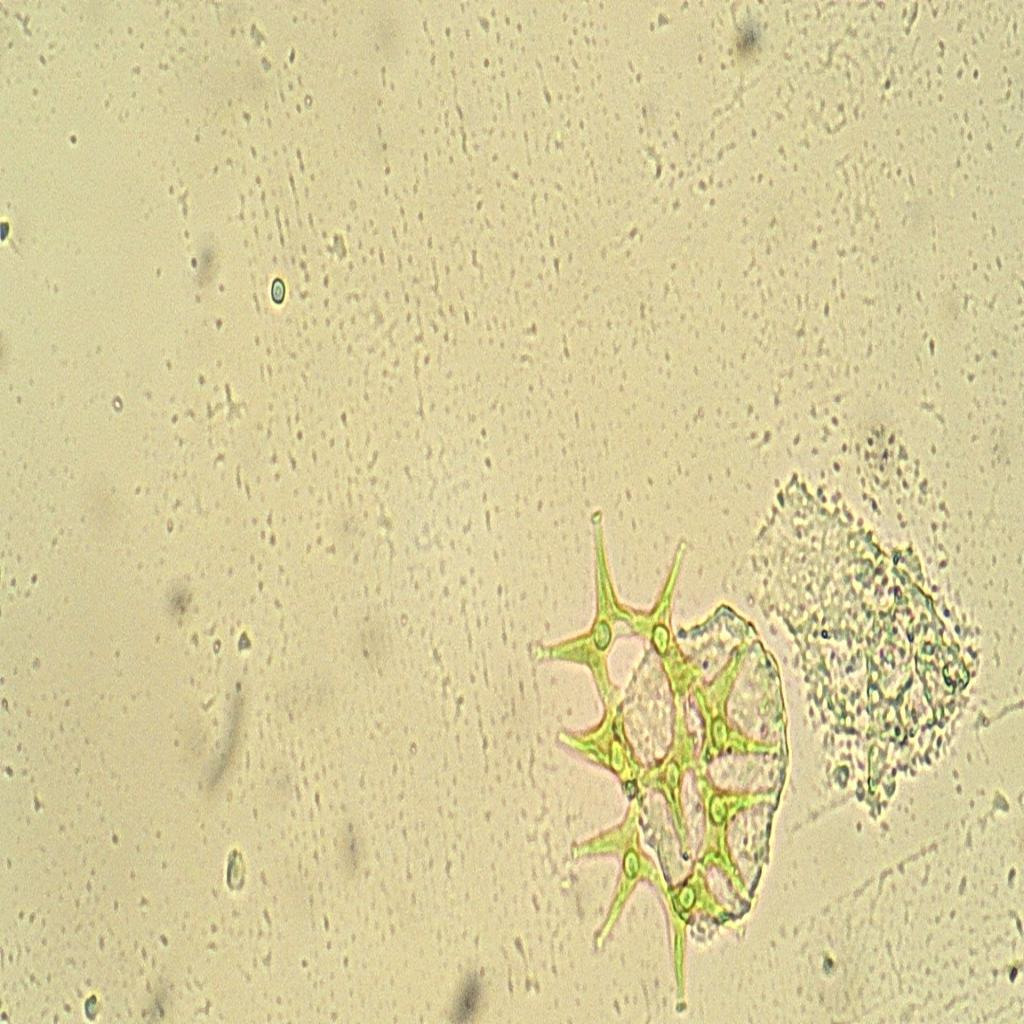Pediastrum_1TH: (522, 484, 790, 1020)
